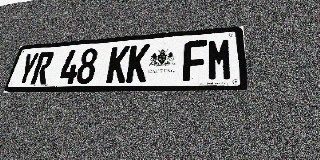4: (58, 49, 83, 84)
8: (75, 48, 100, 84)
F: (182, 40, 207, 82)
K: (125, 44, 150, 83), (105, 46, 130, 83)
M: (207, 38, 233, 81)
R: (30, 51, 55, 85)
Y: (15, 52, 40, 85)
